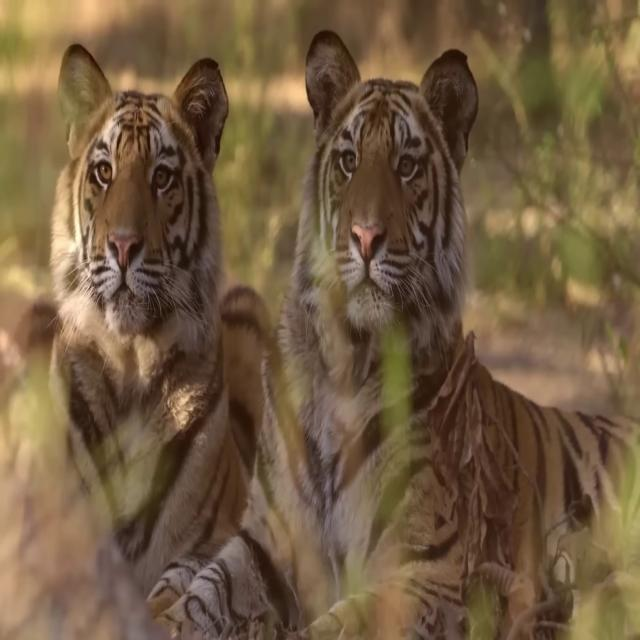tiger: (159, 28, 640, 640), (2, 41, 241, 640), (4, 630, 7, 637)
